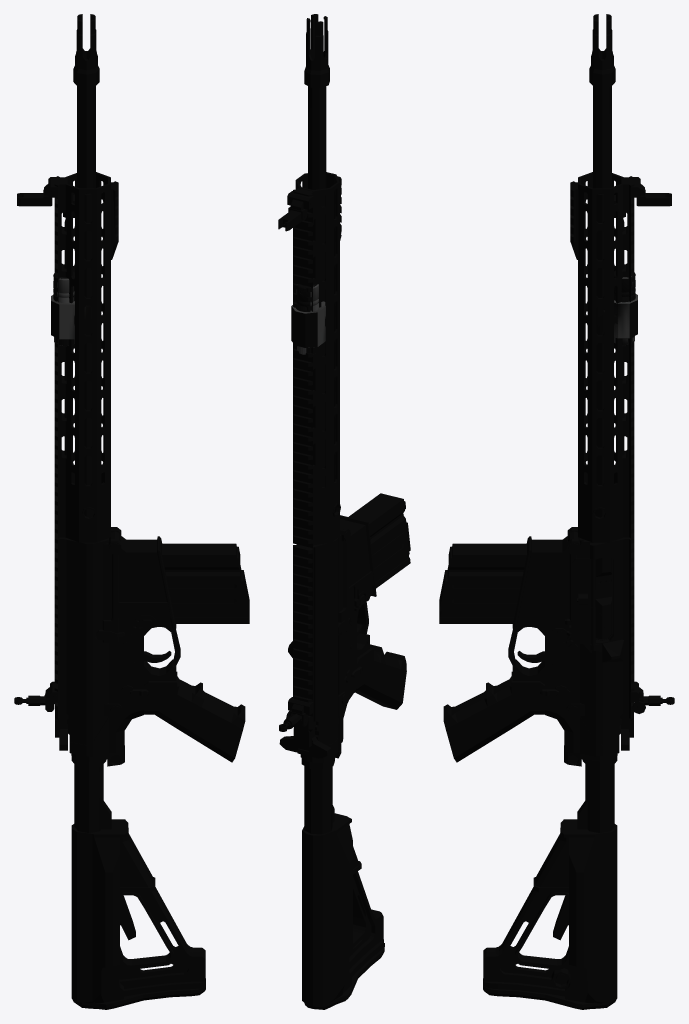
File: Mk12SPR__Light_Pistol.fbx
3 renders of one model, left to right at view 1: azimuth 90°, elevation 25°; view 2: azimuth 150°, elevation 25°; view 3: azimuth 270°, elevation 25°, orthographic.
Parts seen in each view (by area): view 1: asset_Mk12SPR.001; view 2: asset_Mk12SPR.001; view 3: asset_Mk12SPR.001.
Boxes of the visible parts, bbox=[...] form: asset_Mk12SPR.001: bbox=[14, 14, 249, 1009]; asset_Mk12SPR.001: bbox=[278, 14, 410, 1009]; asset_Mk12SPR.001: bbox=[439, 14, 674, 1009].
Bounding box in the file's own units: 0.0267 × 0.516 × 0.1118.
